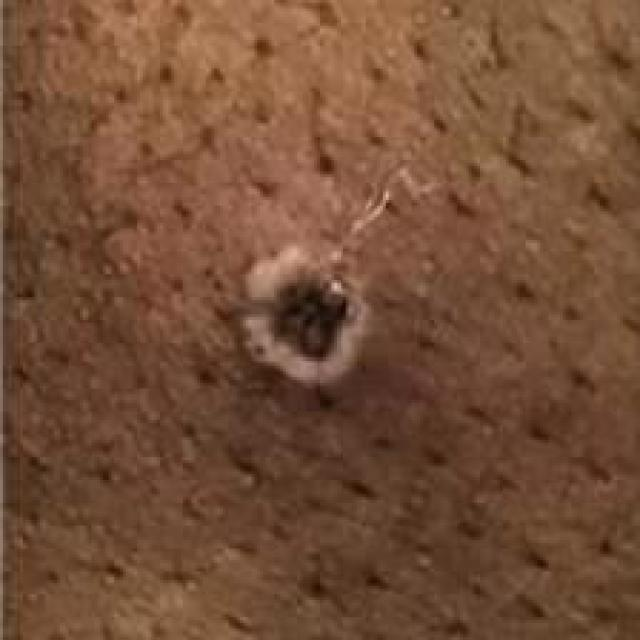monkeypox: (84, 110, 596, 567)
